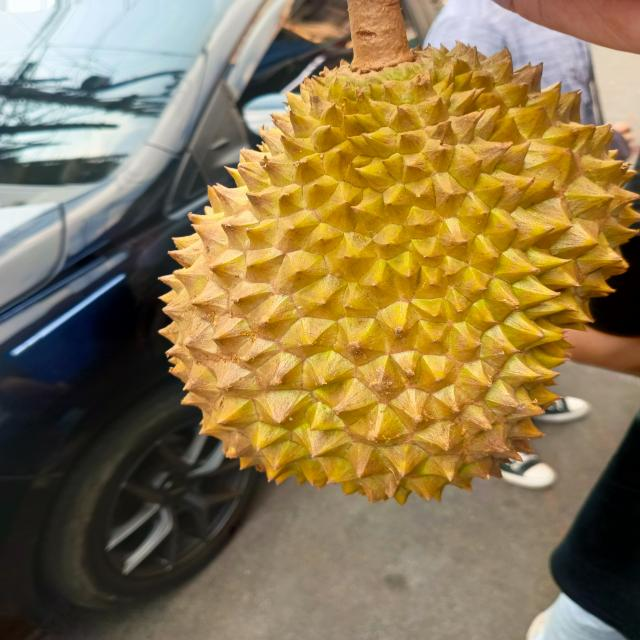mature: (156, 39, 634, 502)
